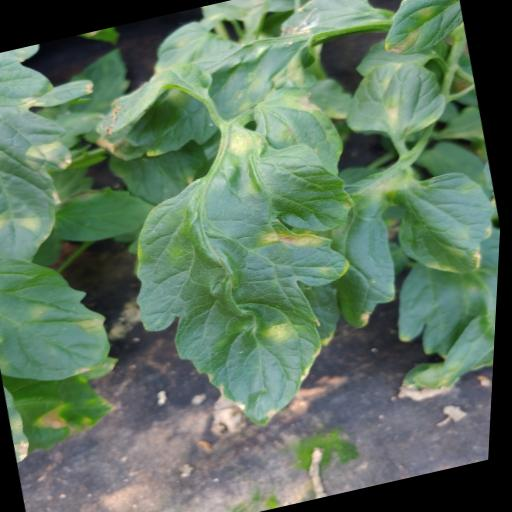Leaf Mold: (100, 102, 409, 446), (0, 72, 130, 271), (0, 237, 127, 393), (384, 161, 505, 287), (334, 50, 457, 149), (361, 0, 469, 60)
